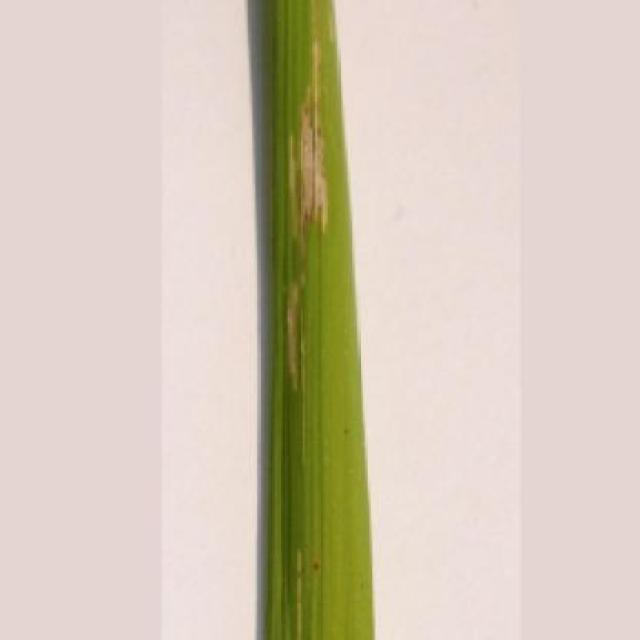Brown_Spot: (260, 0, 377, 640)
